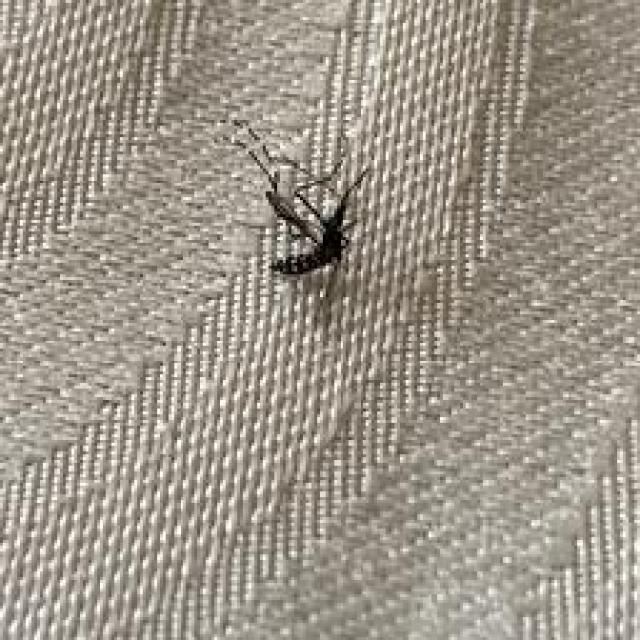Aedes albopictus: (230, 119, 373, 278)
